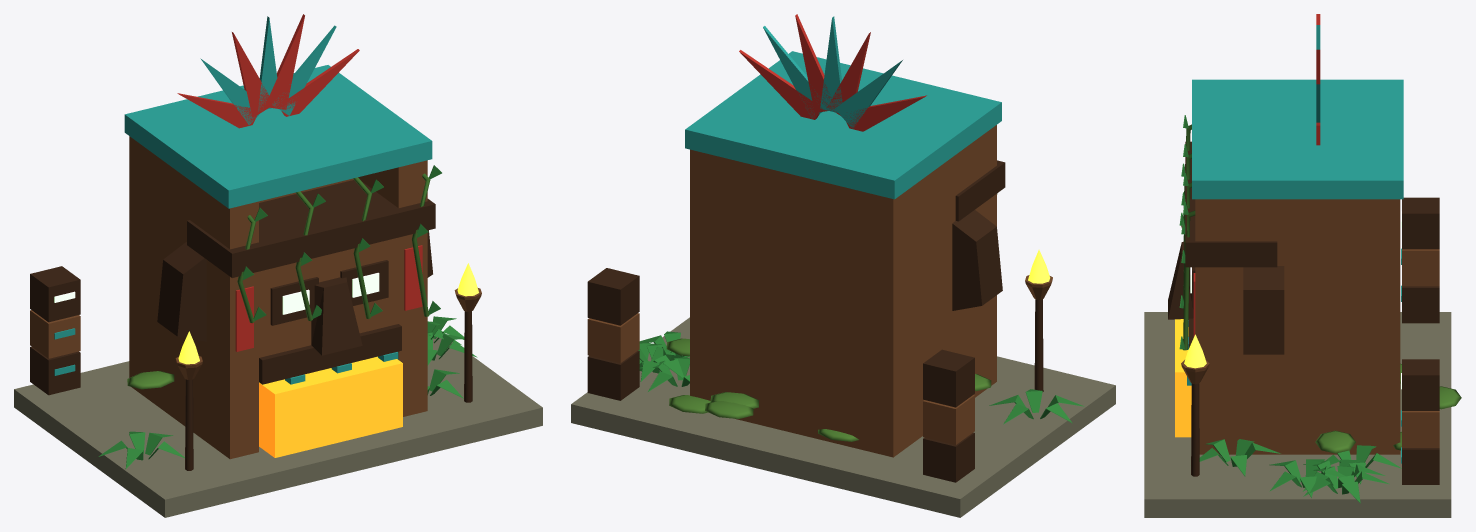
File: TikiIdolFurnace_Roblox.fbx
The picture shows the model from 3 angles, left to right: view 1: azimuth 30°, elevation 25°; view 2: azimuth 150°, elevation 25°; view 3: azimuth 270°, elevation 25°; orthographic projection. The views are drawn at different scales.
Parts seen in each view (by area): view 1: IdolWood, TempleStone, DarkCarving, TealPaint, BurnZone, RedPaint, JungleLeaf, Vine, IdolEyes, TorchFlame, Moss; view 2: IdolWood, TempleStone, TealPaint, DarkCarving, RedPaint, JungleLeaf, Moss; view 3: IdolWood, TealPaint, TempleStone, DarkCarving, JungleLeaf, BurnZone, Moss, Vine, RedPaint, TorchFlame.
Boxes of the visible parts, x1=… form: IdolWood: x1=30, y1=136, x2=481, y2=459; TempleStone: x1=14, y1=337, x2=542, y2=517; DarkCarving: x1=30, y1=180, x2=472, y2=470; TealPaint: x1=54, y1=16, x2=432, y2=384; BurnZone: x1=259, y1=356, x2=402, y2=457; RedPaint: x1=177, y1=14, x2=422, y2=351; JungleLeaf: x1=98, y1=165, x2=477, y2=468; Vine: x1=237, y1=173, x2=430, y2=323; IdolEyes: x1=54, y1=272, x2=379, y2=314; TorchFlame: x1=178, y1=263, x2=478, y2=364; Moss: x1=127, y1=371, x2=174, y2=389; IdolWood: x1=587, y1=125, x2=1052, y2=457; TempleStone: x1=571, y1=317, x2=1115, y2=517; TealPaint: x1=685, y1=16, x2=1001, y2=199; DarkCarving: x1=587, y1=160, x2=1043, y2=482; RedPaint: x1=739, y1=14, x2=926, y2=131; JungleLeaf: x1=638, y1=331, x2=1084, y2=424; Moss: x1=666, y1=338, x2=991, y2=441; IdolWood: x1=1181, y1=199, x2=1439, y2=454; TealPaint: x1=1187, y1=25, x2=1403, y2=463; TempleStone: x1=1144, y1=312, x2=1451, y2=517; DarkCarving: x1=1168, y1=141, x2=1439, y2=484; JungleLeaf: x1=1179, y1=115, x2=1401, y2=503; BurnZone: x1=1175, y1=319, x2=1191, y2=437; Moss: x1=1315, y1=363, x2=1461, y2=453; Vine: x1=1183, y1=124, x2=1195, y2=350; RedPaint: x1=1193, y1=14, x2=1320, y2=337; TorchFlame: x1=1184, y1=334, x2=1206, y2=368.
Bounding box in the file's own units: 1414 × 1290 × 930.
